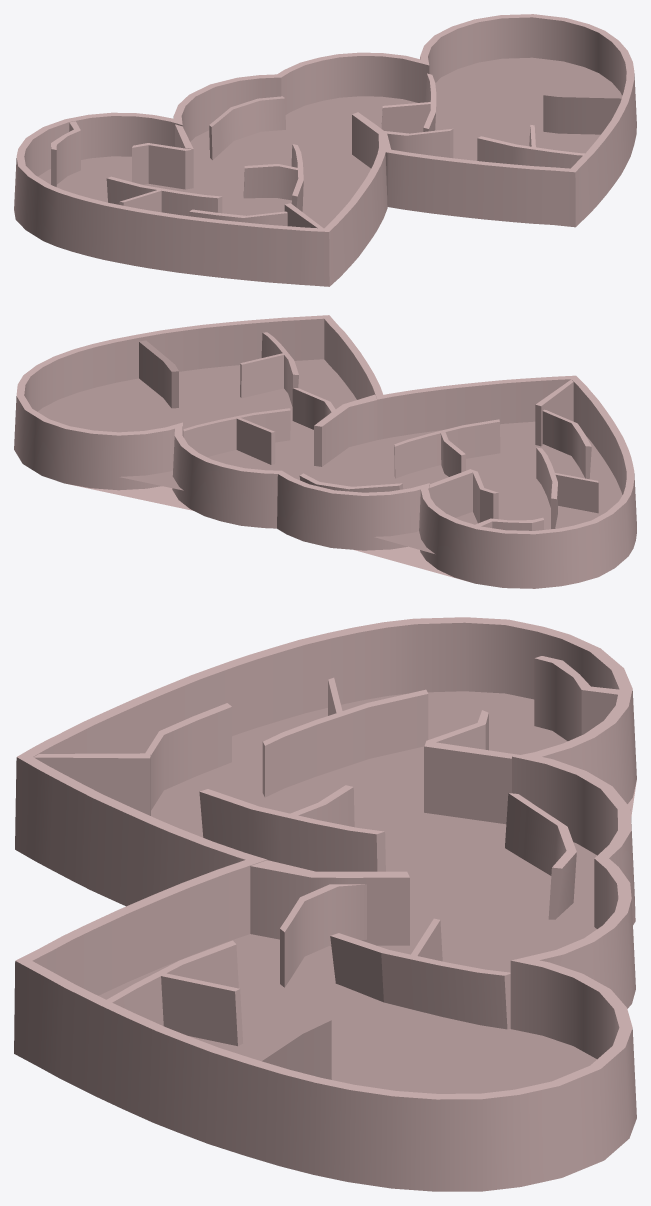
File: Heart Maze environment.fbx
3 renders of one model, top to bottom at view 1: azimuth 30°, elevation 25°; view 2: azimuth 150°, elevation 25°; view 3: azimuth 270°, elevation 25°, orthographic. The views are drawn at different scales.
Parts seen in each view (by area): view 1: polySurface5, pCube8, pCube3, pCube9, pCube10, pCube4, pCube6, pCube11; view 2: polySurface5, pCube9, pCube4, pCube10, pCube3, pCube11, pCube6, pCube8; view 3: polySurface5, pCube4, pCube9, pCube3, pCube10, pCube6, pCube11, pCube8.
Boxes of the visible parts, x1,y1,x2,y2 form: polySurface5: [14, 14, 636, 286]; pCube8: [209, 96, 285, 159]; pCube3: [106, 176, 222, 216]; pCube9: [243, 144, 303, 211]; pCube10: [477, 125, 584, 168]; pCube4: [381, 73, 436, 133]; pCube6: [384, 128, 453, 158]; pCube11: [189, 209, 287, 225]; polySurface5: [14, 315, 636, 588]; pCube9: [394, 419, 500, 478]; pCube4: [183, 408, 290, 464]; pCube10: [240, 332, 298, 406]; pCube3: [536, 447, 598, 528]; pCube11: [542, 409, 591, 478]; pCube6: [292, 388, 335, 429]; pCube8: [299, 473, 403, 492]; polySurface5: [14, 617, 636, 1191]; pCube4: [330, 918, 510, 1029]; pCube9: [199, 785, 385, 871]; pCube3: [262, 677, 428, 797]; pCube10: [106, 940, 243, 1046]; pCube6: [280, 884, 366, 987]; pCube11: [145, 703, 231, 810]; pCube8: [505, 793, 576, 919].
Bounding box in the file's own units: 17.44 × 1.56 × 9.45.
